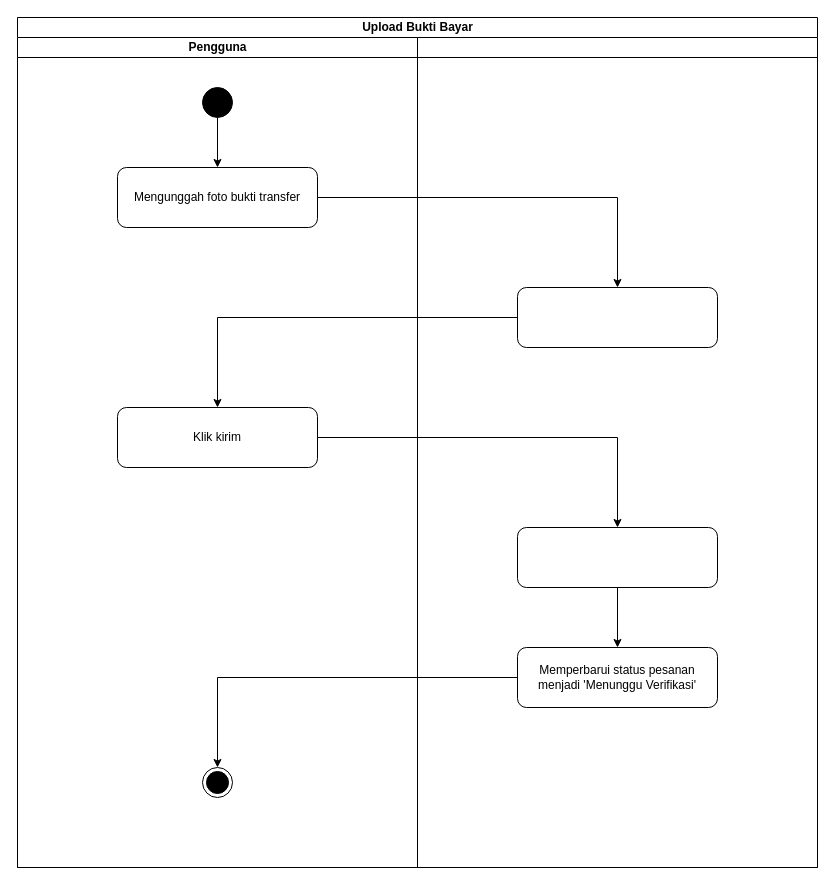
This 835x885 diagram has some shape labels left out. Each missing label, with the box of its shape:
Menerima file unggahan: (516, 286, 718, 348)
Menyimpan bukti bayar ke database: (516, 526, 718, 588)
Sistem: (416, 36, 818, 868)
